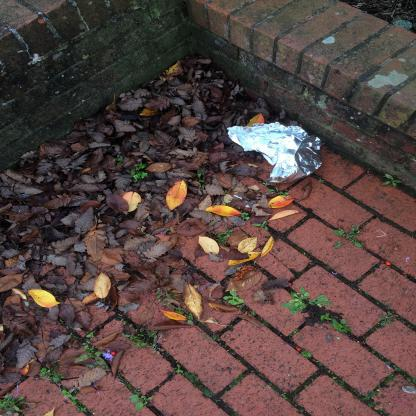metal: (228, 123, 326, 185)
